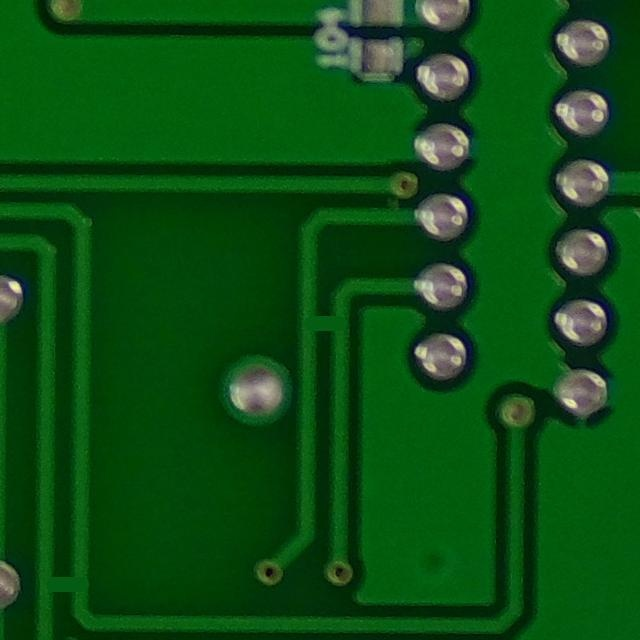short: (286, 293, 355, 347)
